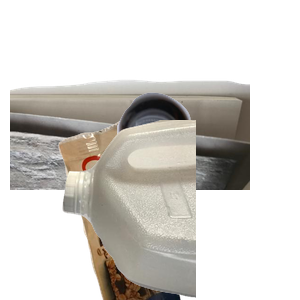glass: (115, 90, 300, 270)
paper: (10, 77, 250, 257)
plastic: (60, 120, 300, 300)
trash: (56, 120, 229, 300)
